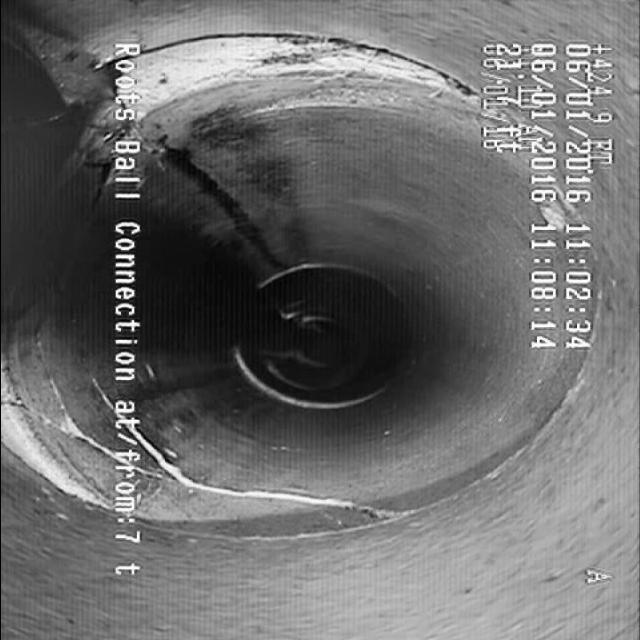Fracture: (150, 458, 410, 529)
